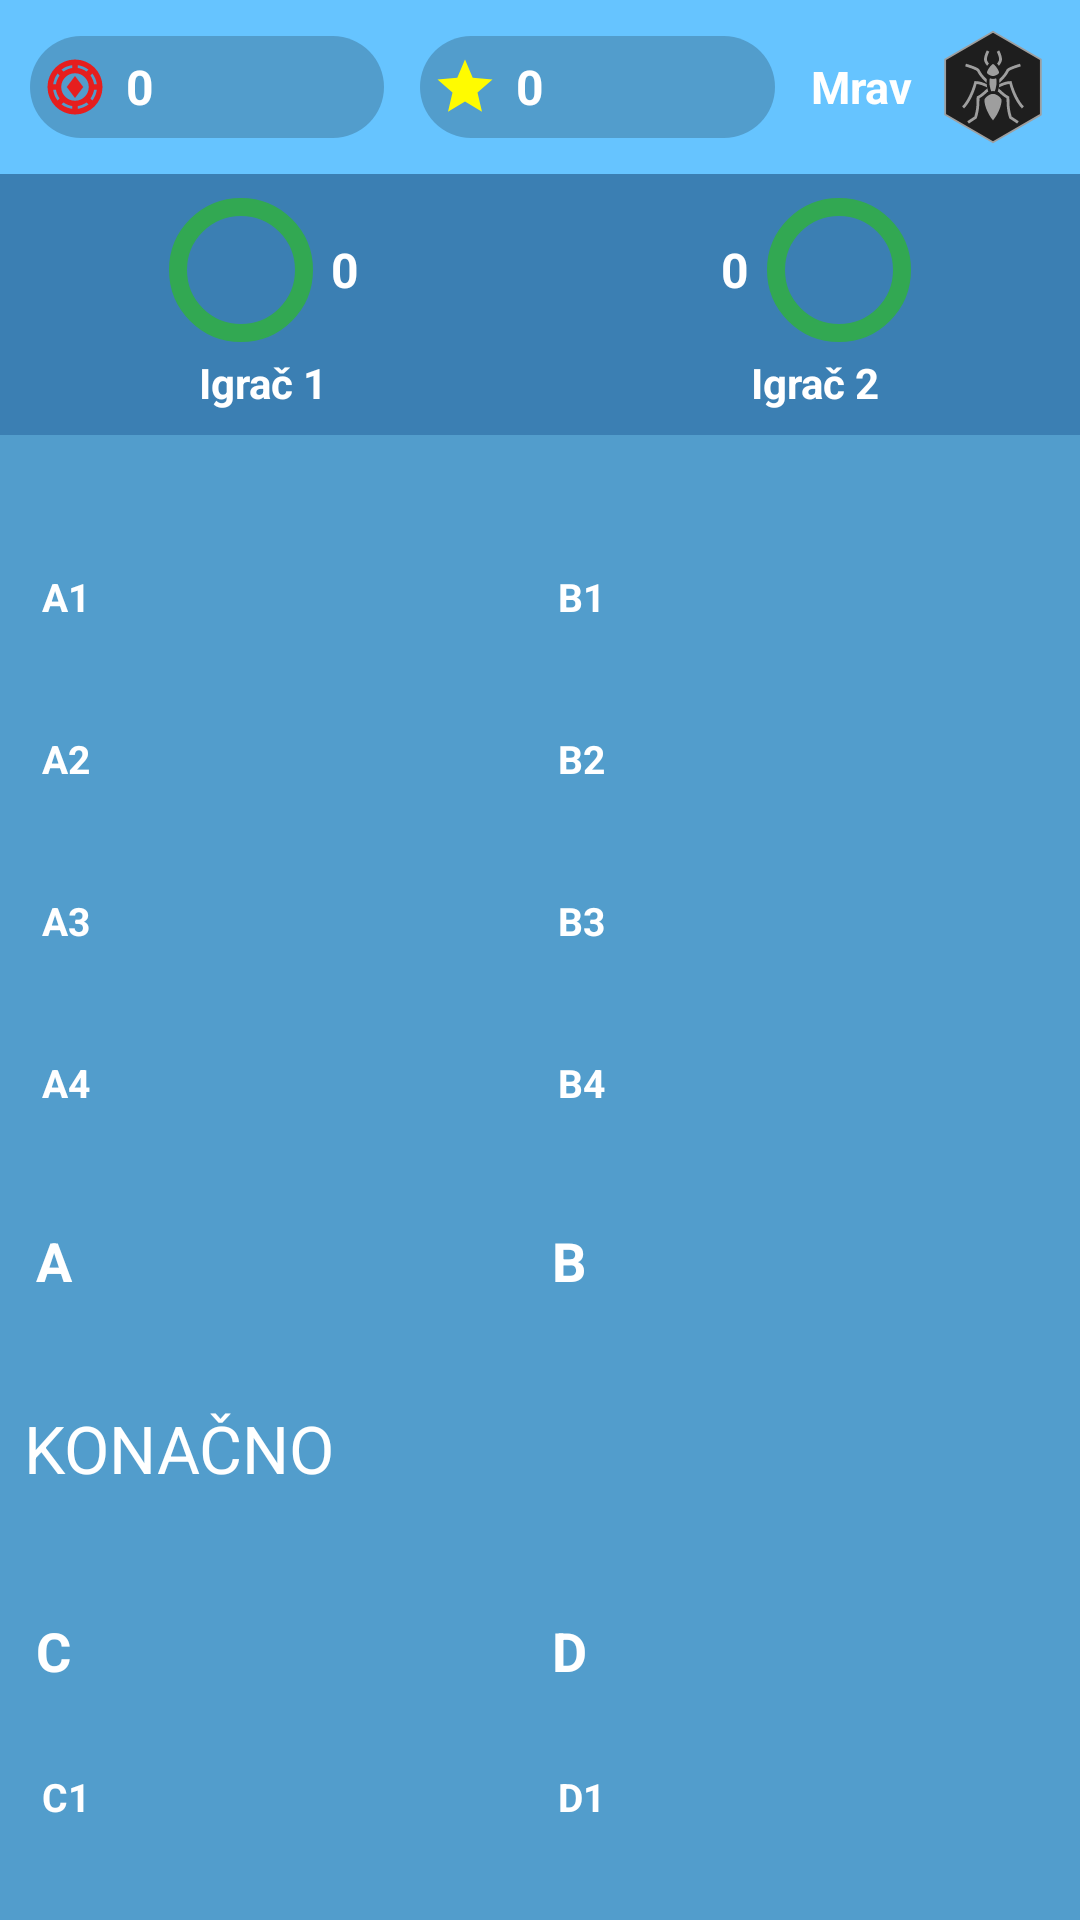

Locate icon controls on the screen. Image size 1080px x 1920px, boxes as BBox(x1, y1, x2, y2).
Liga: BBox(944, 31, 1042, 143)
Tokeni: BBox(47, 59, 103, 115)
Zvezde: BBox(438, 60, 492, 112)
